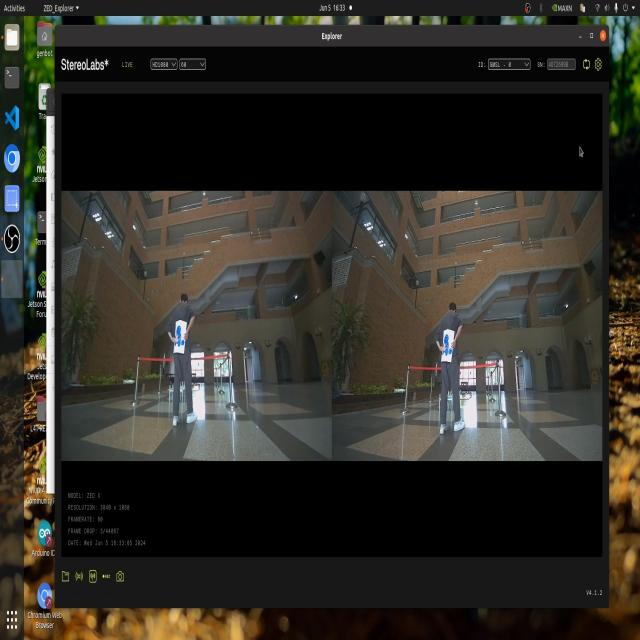blue: (442, 332, 461, 377), (173, 318, 189, 361)
